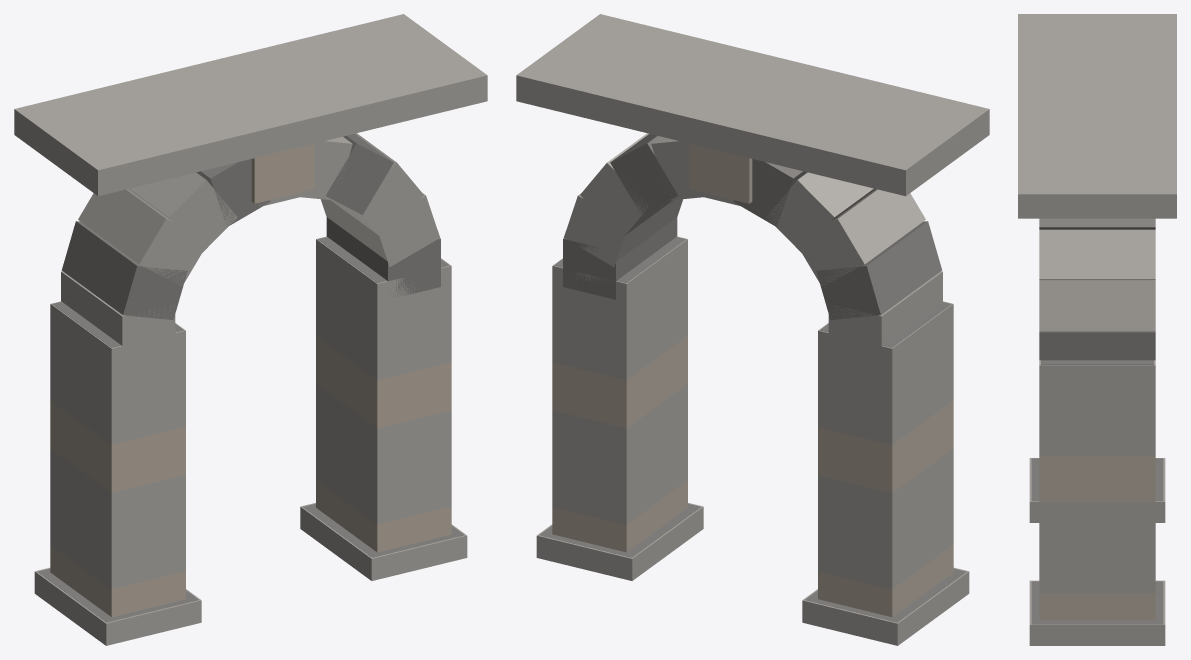
File: stone_arch.fbx
3 views of the same model, side by side, from view 1: azimuth 30°, elevation 25°; view 2: azimuth 150°, elevation 25°; view 3: azimuth 270°, elevation 25° (orthographic). The views are drawn at different scales.
Parts seen in each view (by area): view 1: StoneArch; view 2: StoneArch; view 3: StoneArch.
Boxes of the visible parts, x1,y1,x2,y2 form: StoneArch: [14, 14, 487, 645]; StoneArch: [516, 14, 989, 645]; StoneArch: [1018, 14, 1176, 645].
Size of the model in its own units: 4.4 by 5.22 by 1.64.
